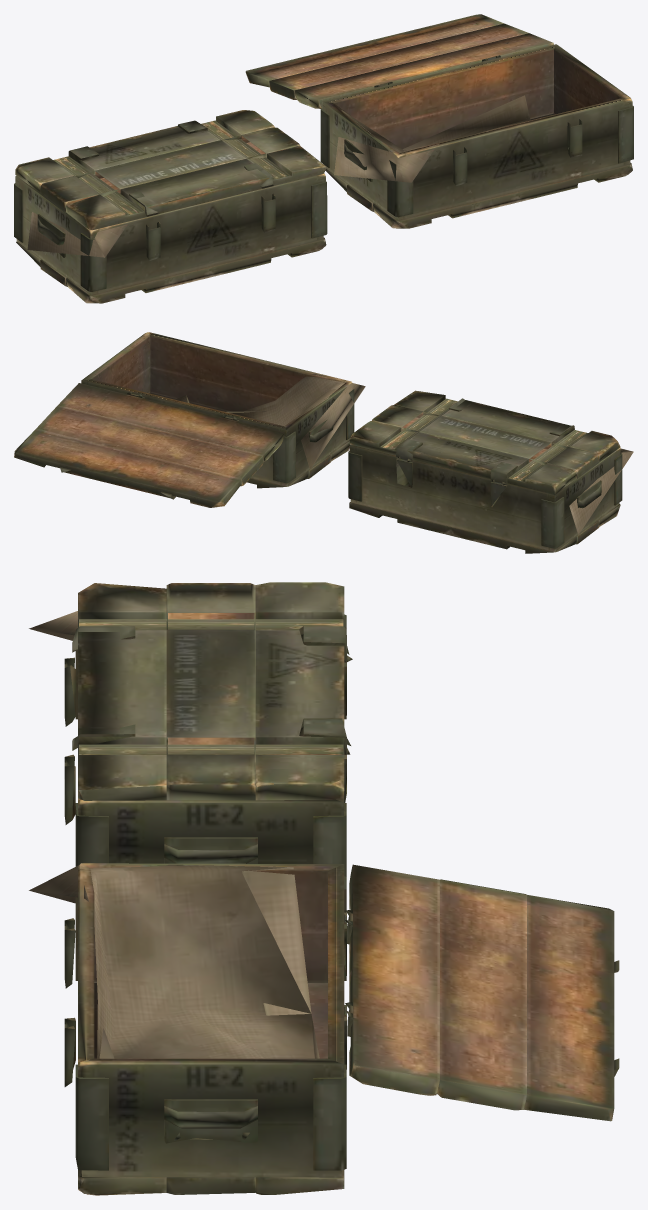
Rendered from crate2.glb.
3 views of the same model, one above another, from view 1: azimuth 30°, elevation 25°; view 2: azimuth 150°, elevation 25°; view 3: azimuth 270°, elevation 25° (orthographic). The views are drawn at different scales.
Parts seen in each view (by area): view 1: old_military_crate_lid_a; view 2: old_military_crate_lid_a; view 3: old_military_crate_lid_a.
Boxes of the visible parts, x1,y1,x2,y2 form: old_military_crate_lid_a: (14,14,633,303); old_military_crate_lid_a: (14,332,633,553); old_military_crate_lid_a: (29,582,619,1195).
Size of the model in its own units: 1.81 by 0.2734 by 0.9539.
1 material, 1 textured.
